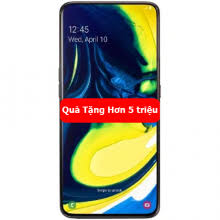samsung: (55, 1, 162, 219)
